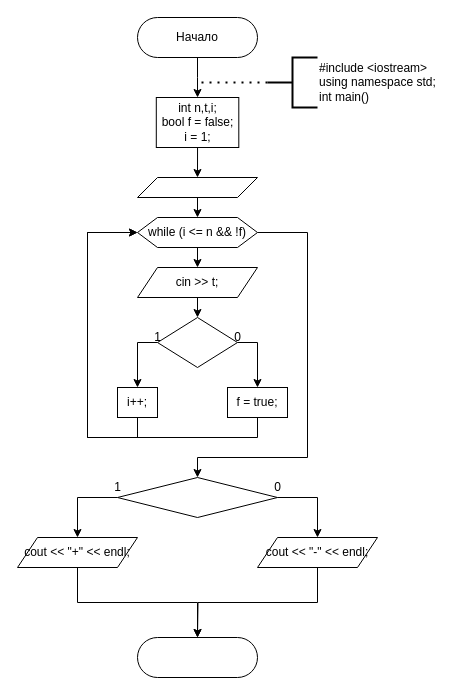
Image size: 454x695. Some labels were removed from this diagram. Here are the shapes that lost their labels. From the top down, the box of each, then its label:
(136, 176, 258, 198): cin >> n;
(156, 316, 238, 368): if (t == 0)
(116, 476, 278, 518): if ((t > 0) && (f = true))
(136, 636, 258, 678): Конец
